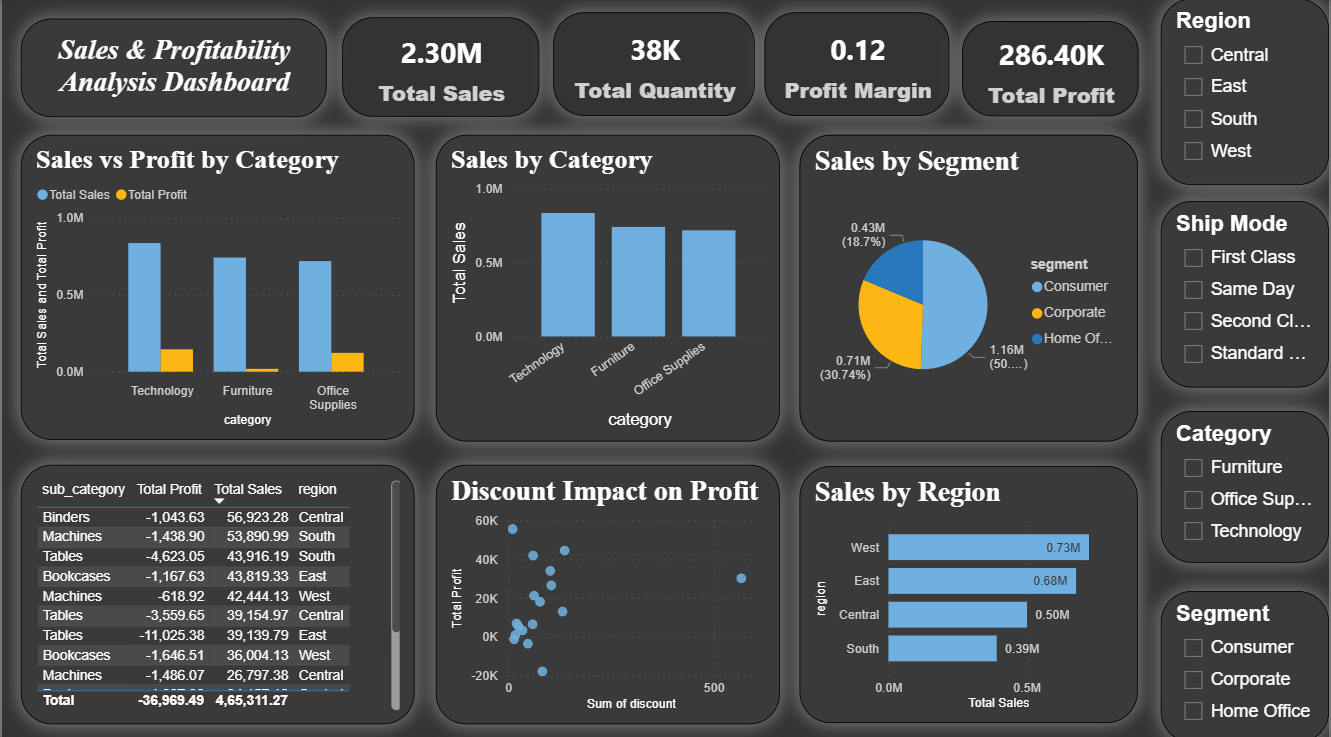

Layout of this report page (visuals, bound fields, positions):
{"tool":"powerbi","page":{"name":"Page 1","canvas":[1280,720],"ordinal":0},"visuals":[{"type":"card","fields":{"Values":["superstore_analysis sales_data.Total Sales"]},"box":[328,20,190,96],"z":0},{"type":"card","fields":{"Values":["superstore_analysis sales_data.Total Quantity"]},"box":[532,16,194,100],"z":1000},{"type":"card","fields":{"Values":["superstore_analysis sales_data.Profit Margin"]},"box":[736,16,178,100],"z":2000},{"type":"card","fields":{"Values":["superstore_analysis sales_data.Total Profit"]},"box":[926,24,170,92],"z":3000},{"type":"clusteredColumnChart","title":"Sales vs Profit by Category","fields":{"Category":["superstore_analysis sales_data.category"],"Y":["superstore_analysis sales_data.Total Sales","superstore_analysis sales_data.Total Profit"]},"box":[18,134,380,294],"z":4000},{"type":"scatterChart","title":"Discount Impact on Profit","fields":{"X":["Sum(superstore_analysis sales_data.discount)"],"Y":["superstore_analysis sales_data.Total Profit"],"Category":["superstore_analysis sales_data.sub_category"]},"box":[418.3,451.7,331.7,250],"z":5000},{"type":"columnChart","title":"Sales by Category","fields":{"Category":["superstore_analysis sales_data.category"],"Y":["superstore_analysis sales_data.Total Sales"]},"box":[418,134,332,296],"z":6000},{"type":"barChart","title":"Sales by Region","fields":{"Category":["superstore_analysis sales_data.region"],"Y":["superstore_analysis sales_data.Total Sales"]},"box":[770,454,326,248],"z":7000},{"type":"pieChart","title":"Sales by Segment","fields":{"Category":["superstore_analysis sales_data.segment"],"Y":["superstore_analysis sales_data.Total Sales"]},"box":[770,134,326,296],"z":8000},{"type":"tableEx","fields":{"Values":["superstore_analysis sales_data.sub_category","superstore_analysis sales_data.Total Profit","superstore_analysis sales_data.Total Sales","superstore_analysis sales_data.region"]},"box":[18.3,451.7,380,250],"z":9000},{"type":"slicer","title":"Region","fields":{"Values":["superstore_analysis sales_data.region"]},"box":[1118,2,162,180],"z":10000},{"type":"slicer","title":"Category","fields":{"Values":["superstore_analysis sales_data.category"]},"box":[1118,400,162,146],"z":11000},{"type":"slicer","title":"Segment","fields":{"Values":["superstore_analysis sales_data.segment"]},"box":[1118,574,162,146],"z":12000},{"type":"slicer","title":"Ship Mode","fields":{"Values":["superstore_analysis sales_data.ship_mode"]},"box":[1118,198,162,180],"z":13000},{"type":"textbox","box":[18.3,21.7,295,95],"z":14000}]}

Visuals, with their boxes in screenshot pixels (x1, y1, x2, y2), scaled from the page's 1280x720 canvas onto the 1331x737 screenshot:
card - superstore_analysis sales_data.Total Sales: bbox=[341, 20, 539, 119]
card - superstore_analysis sales_data.Total Quantity: bbox=[553, 16, 755, 119]
card - superstore_analysis sales_data.Profit Margin: bbox=[765, 16, 950, 119]
card - superstore_analysis sales_data.Total Profit: bbox=[963, 25, 1140, 119]
"Sales vs Profit by Category" clusteredColumnChart: bbox=[19, 137, 414, 438]
"Discount Impact on Profit" scatterChart: bbox=[435, 462, 780, 718]
"Sales by Category" columnChart: bbox=[435, 137, 780, 440]
"Sales by Region" barChart: bbox=[801, 465, 1140, 719]
"Sales by Segment" pieChart: bbox=[801, 137, 1140, 440]
tableEx - superstore_analysis sales_data.sub_category x superstore_analysis sales_data.Total Profit: bbox=[19, 462, 414, 718]
"Region" slicer: bbox=[1163, 2, 1330, 186]
"Category" slicer: bbox=[1163, 409, 1330, 559]
"Segment" slicer: bbox=[1163, 588, 1330, 736]
"Ship Mode" slicer: bbox=[1163, 203, 1330, 387]
textbox: bbox=[19, 22, 326, 119]
